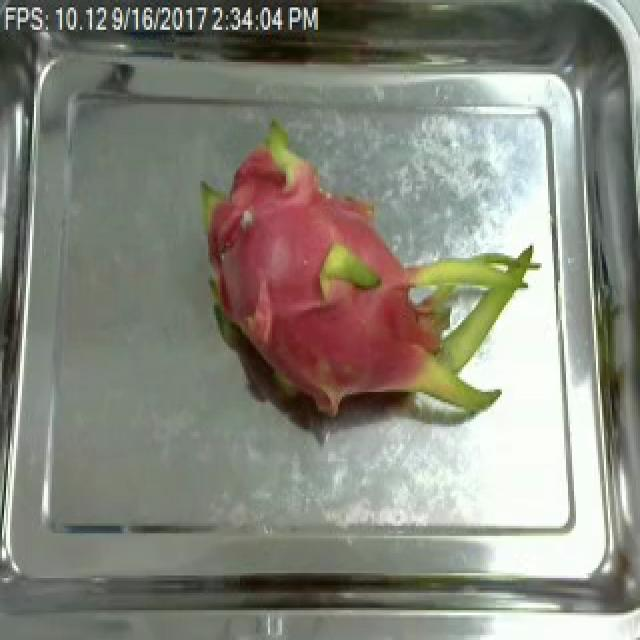fruit: (190, 109, 556, 457)
